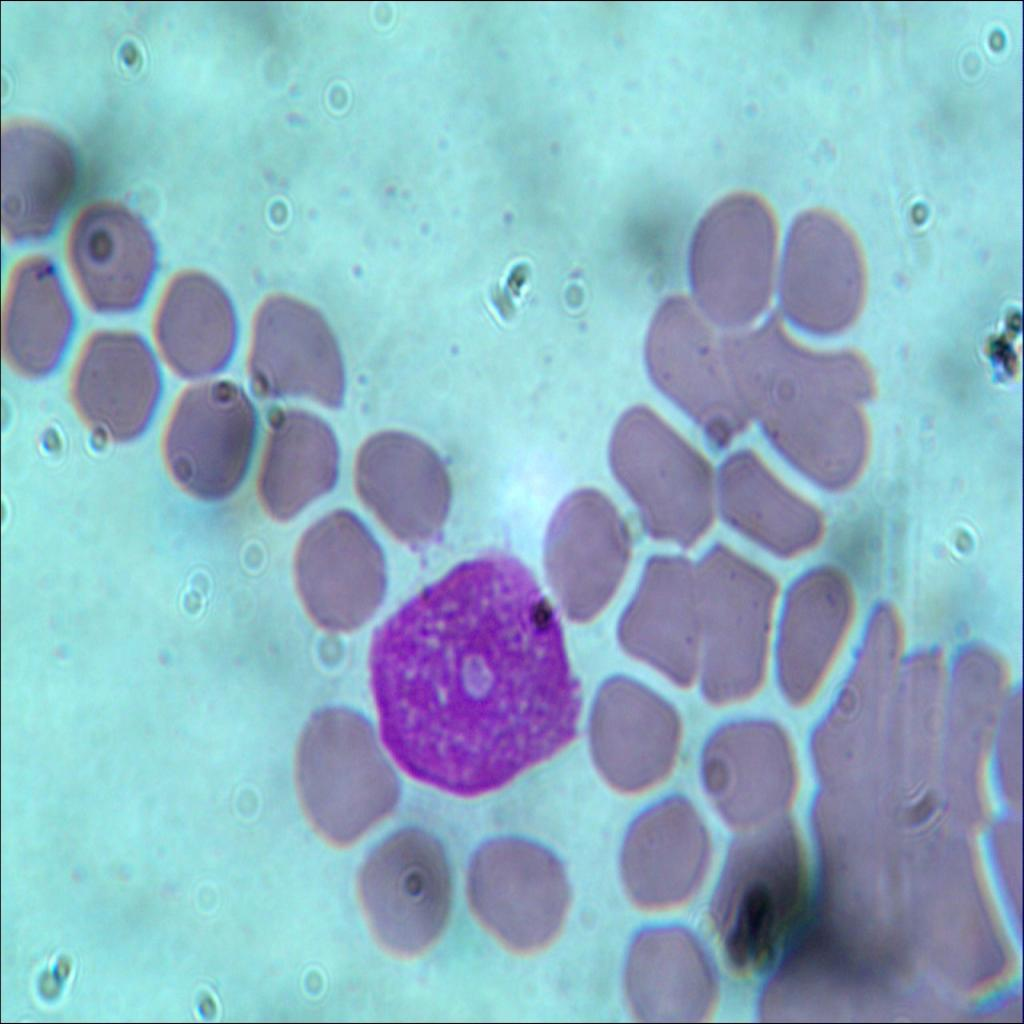Eritrosit: (741, 331, 876, 485), (608, 407, 724, 557), (456, 826, 576, 968), (650, 287, 753, 437), (298, 707, 406, 847), (706, 817, 816, 952), (151, 378, 261, 504), (676, 188, 779, 322), (353, 426, 456, 554), (776, 200, 873, 335), (243, 294, 346, 417), (579, 666, 683, 787), (689, 552, 775, 698), (615, 788, 711, 918), (538, 497, 639, 618), (286, 509, 386, 631), (66, 321, 166, 442), (613, 915, 723, 1023), (358, 826, 449, 954), (64, 207, 166, 318), (773, 574, 856, 708), (0, 251, 76, 388), (718, 451, 818, 555), (628, 545, 704, 677), (703, 717, 799, 821), (146, 263, 238, 365), (0, 114, 75, 235), (255, 411, 344, 512)
Limfoblast: (362, 552, 580, 808)
